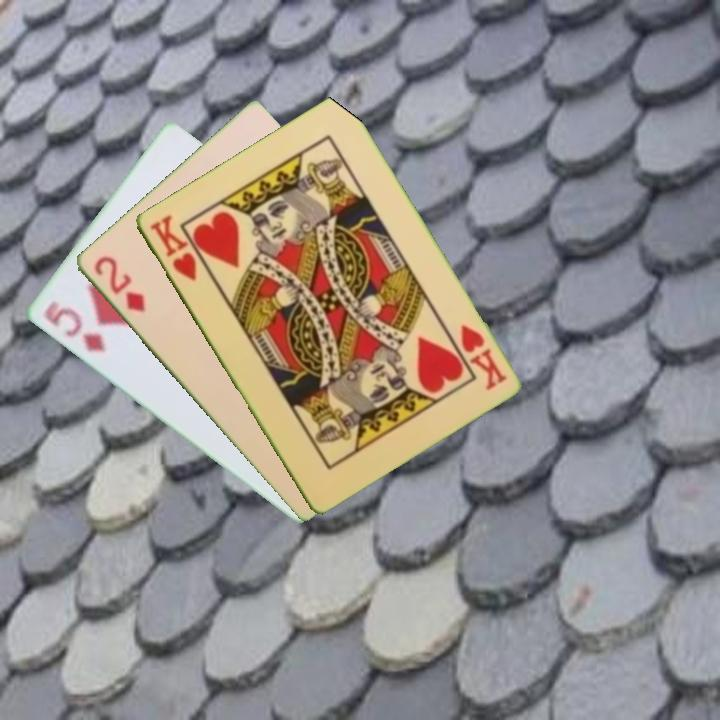2d: (89, 252, 148, 315)
5d: (40, 297, 108, 356)
Kh: (456, 320, 510, 394), (145, 211, 199, 284)
